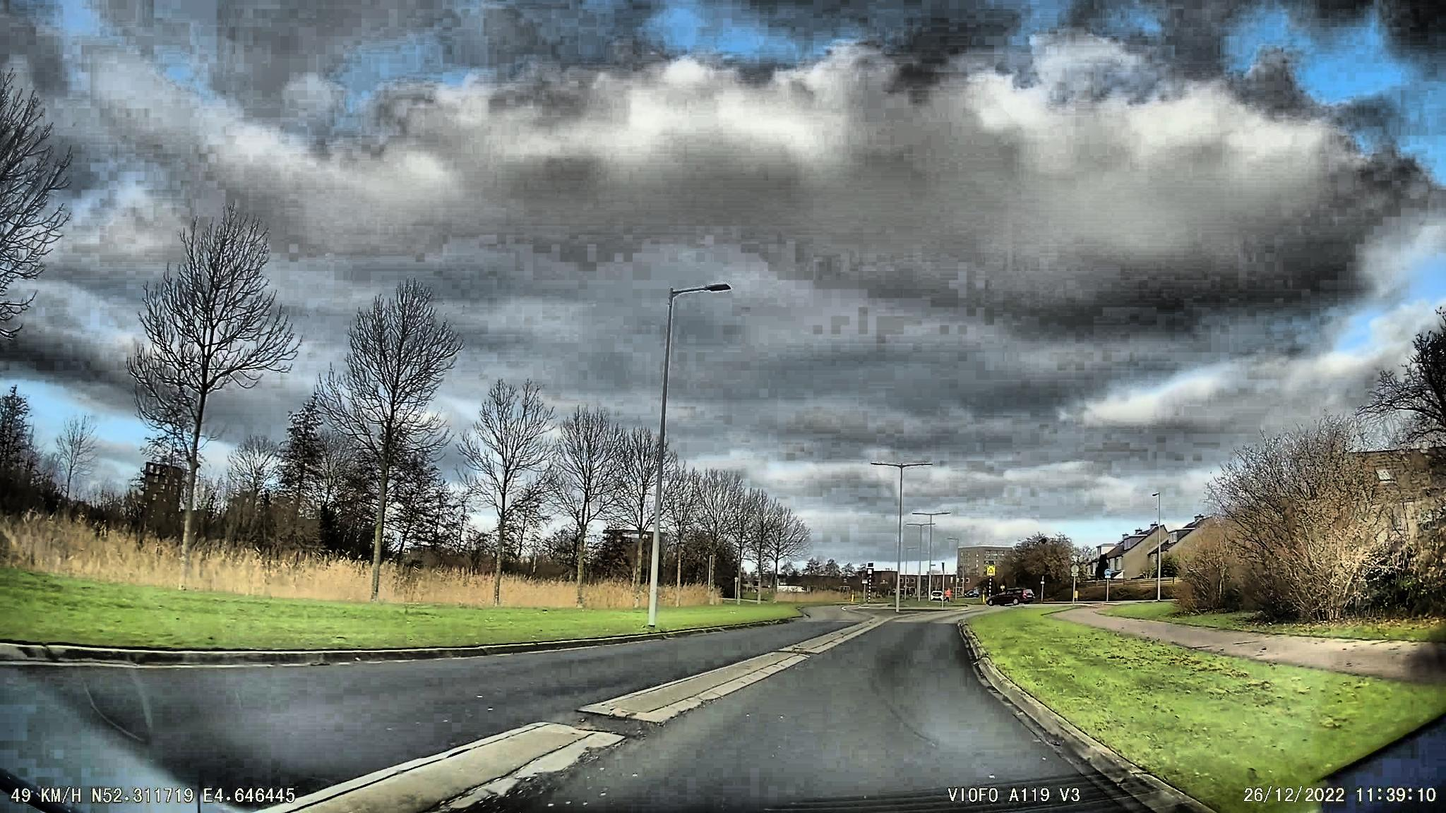Roads: (0, 618, 1168, 813)
